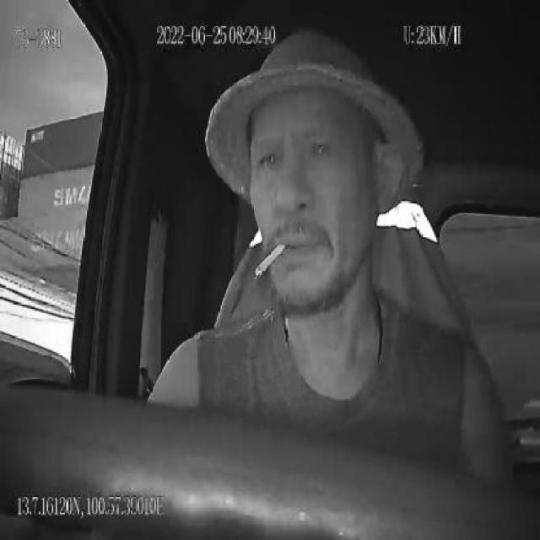smoking: (256, 239, 286, 279)
